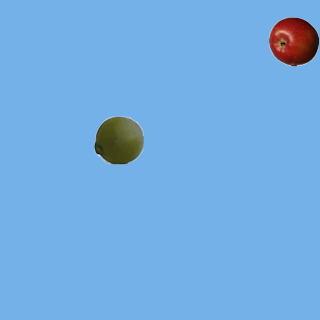Apple Braeburn: (268, 16, 318, 66)
Grape White 4: (93, 114, 143, 164)
